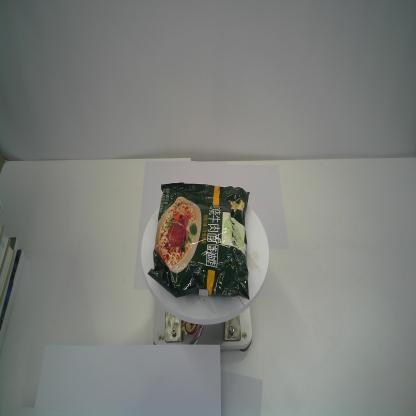Instant Noodles: (146, 179, 252, 303)
